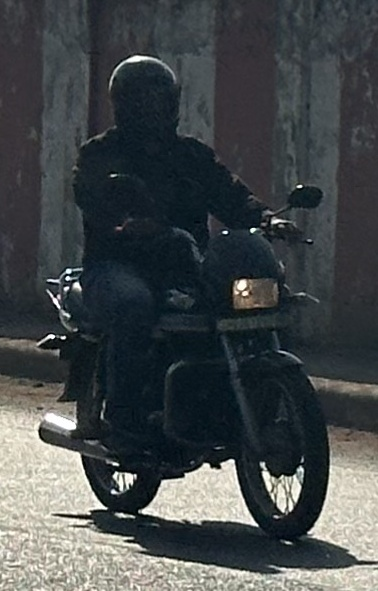BikeWithRider: (29, 45, 340, 546)
Helmet: (100, 47, 189, 145)
